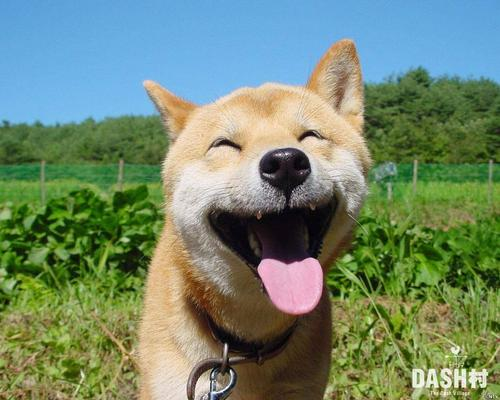dog: (129, 22, 399, 322)
